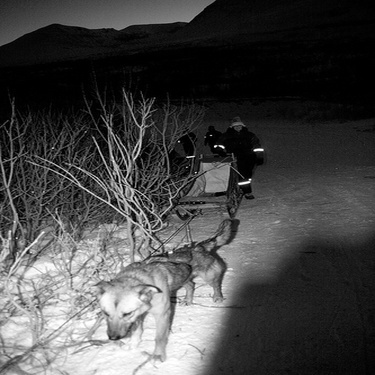dog: (90, 206, 245, 360)
